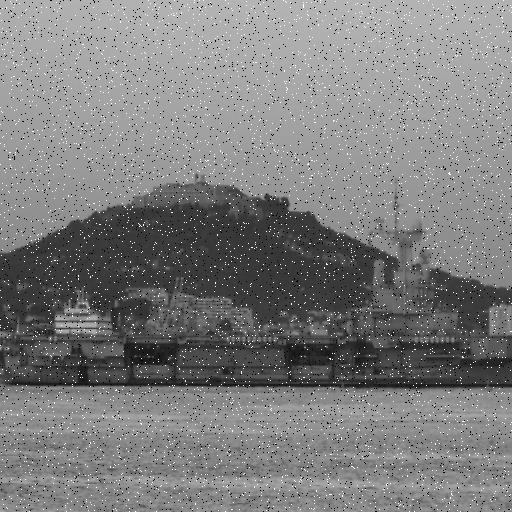Portanaves: (1, 172, 512, 394)
